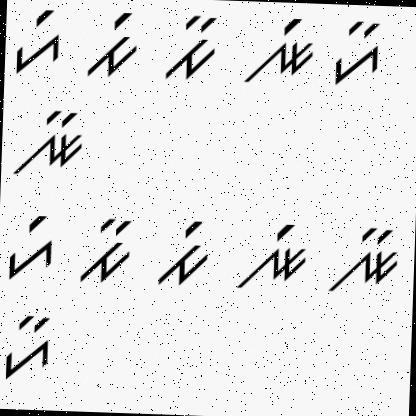han: (2, 304, 55, 382), (332, 18, 385, 91)
hang: (2, 210, 58, 282), (12, 9, 66, 77)
mban: (74, 216, 134, 286), (161, 11, 219, 82)
mbang: (82, 8, 141, 86), (152, 219, 212, 291)
ndan: (326, 216, 405, 298), (8, 102, 86, 180)
ndang: (234, 210, 309, 294), (242, 14, 318, 89)
